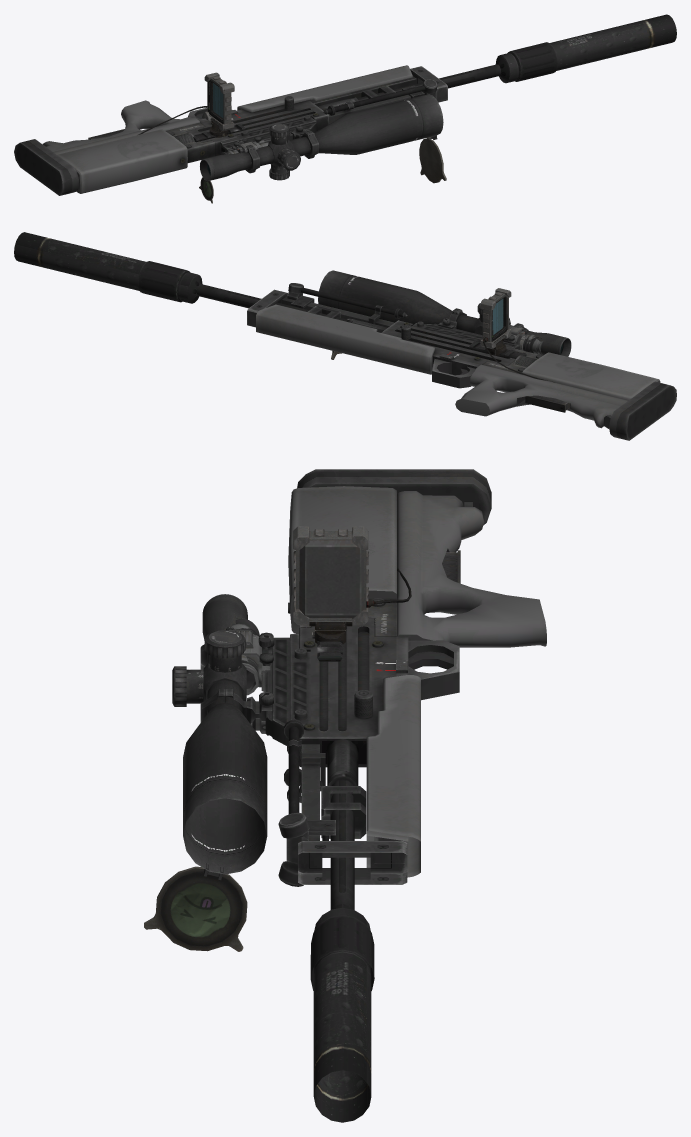
The model's file is viewmodel_wa2000_digital_LOD0.obj.
3 views of the same model, one above another, from view 1: azimuth 30°, elevation 25°; view 2: azimuth 150°, elevation 25°; view 3: azimuth 270°, elevation 25° (orthographic). The views are drawn at different scales.
Visible parts, largest first — view 1: mtl_weapon_wa2000_rifle_digital, mtl_weapon_wa2000_scope, mtl_weapon_suppressor_b, mtl_weapon_motion_tracker_digital, mtl_motion_tracker_screen; view 2: mtl_weapon_wa2000_rifle_digital, mtl_weapon_suppressor_b, mtl_weapon_wa2000_scope, mtl_weapon_motion_tracker_digital, mtl_weapon_thermal_sight_2_digital, mtl_motion_tracker_screen; view 3: mtl_weapon_wa2000_rifle_digital, mtl_weapon_wa2000_scope, mtl_weapon_suppressor_b, mtl_weapon_motion_tracker_digital, mtl_weapon_thermal_sight_2_digital.
Boxes of the visible parts, x1,y1,x2,y2 form: mtl_weapon_wa2000_rifle_digital: [14, 64, 500, 195]; mtl_weapon_wa2000_scope: [199, 94, 446, 203]; mtl_weapon_suppressor_b: [495, 14, 676, 83]; mtl_weapon_motion_tracker_digital: [138, 72, 245, 142]; mtl_motion_tracker_screen: [213, 83, 223, 118]; mtl_weapon_wa2000_rifle_digital: [197, 283, 676, 440]; mtl_weapon_suppressor_b: [14, 232, 202, 303]; mtl_weapon_wa2000_scope: [318, 270, 571, 359]; mtl_weapon_motion_tracker_digital: [469, 288, 554, 382]; mtl_weapon_thermal_sight_2_digital: [509, 324, 538, 354]; mtl_motion_tracker_screen: [492, 298, 503, 334]; mtl_weapon_wa2000_rifle_digital: [265, 469, 546, 909]; mtl_weapon_wa2000_scope: [144, 594, 274, 951]; mtl_weapon_suppressor_b: [310, 907, 374, 1122]; mtl_weapon_motion_tracker_digital: [293, 526, 411, 661]; mtl_weapon_thermal_sight_2_digital: [226, 618, 271, 695].
Size of the model in its own units: 153 by 29.01 by 43.28.
